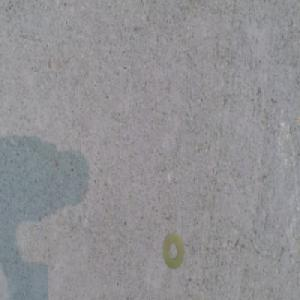Washer: (161, 235, 185, 273)
